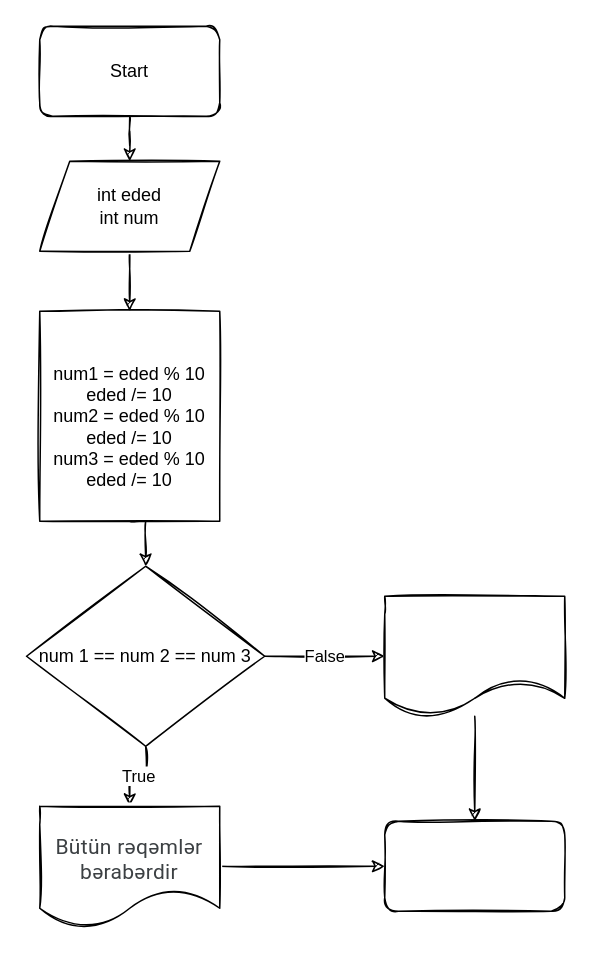
The diagram is 591 pixels wide and 953 high, and some of its shapes have lost their labels. Here are the shapes that lost their labels. From the top down, the box of each, then its label:
(383, 595, 565, 716): Bütün rəqəmlər bərabər deyil
(383, 820, 565, 911): End
